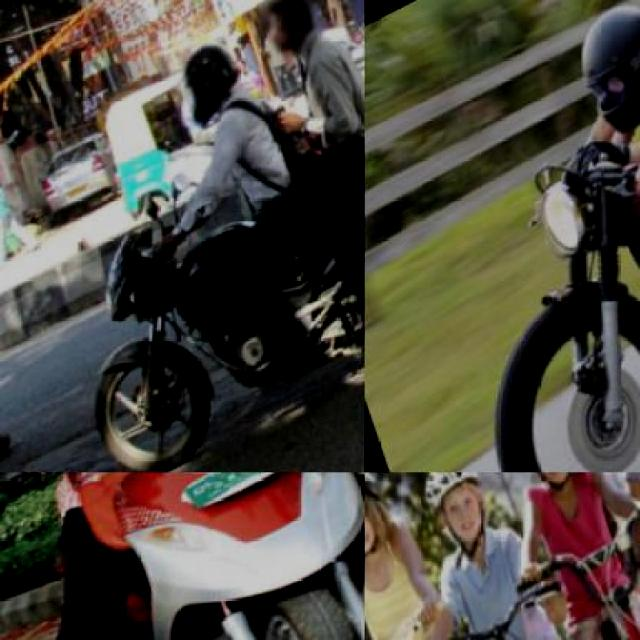With Helmet: (550, 0, 638, 145), (159, 36, 259, 146), (406, 472, 516, 570), (365, 472, 420, 586), (500, 472, 605, 508)
Without Helmet: (254, 0, 337, 77)
